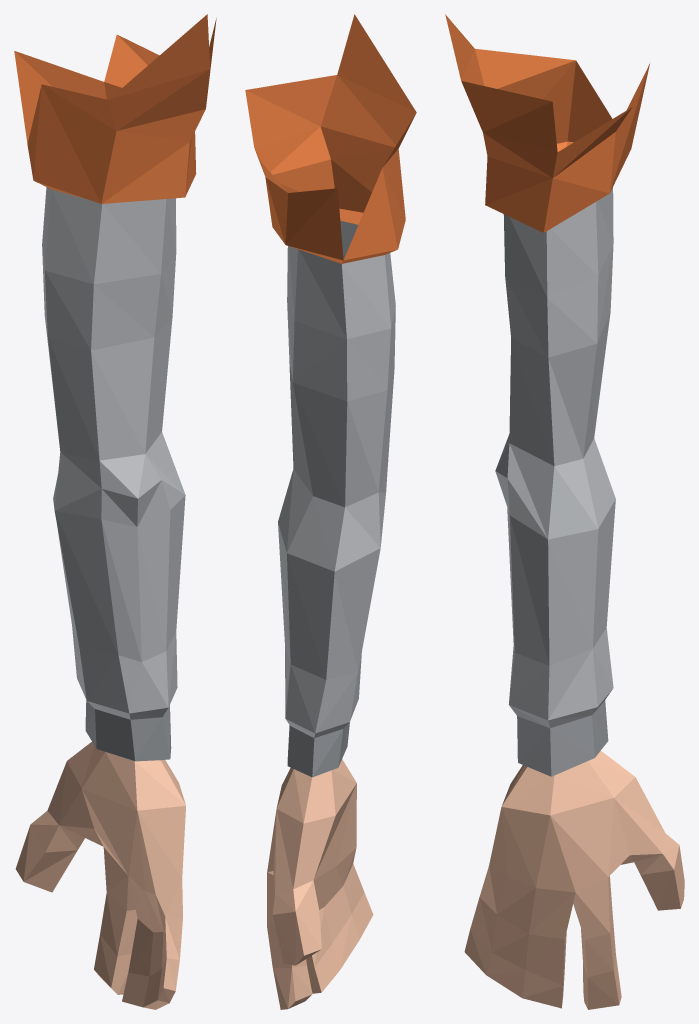
The model's file is ArmR.obj.
3 renders of one model, left to right at view 1: azimuth 30°, elevation 25°; view 2: azimuth 150°, elevation 25°; view 3: azimuth 270°, elevation 25°, orthographic. The views are drawn at different scales.
Bounding box in the file's own units: 0.1622 × 0.9107 × 0.1978.
Materials: 1 (1 with a texture image).
